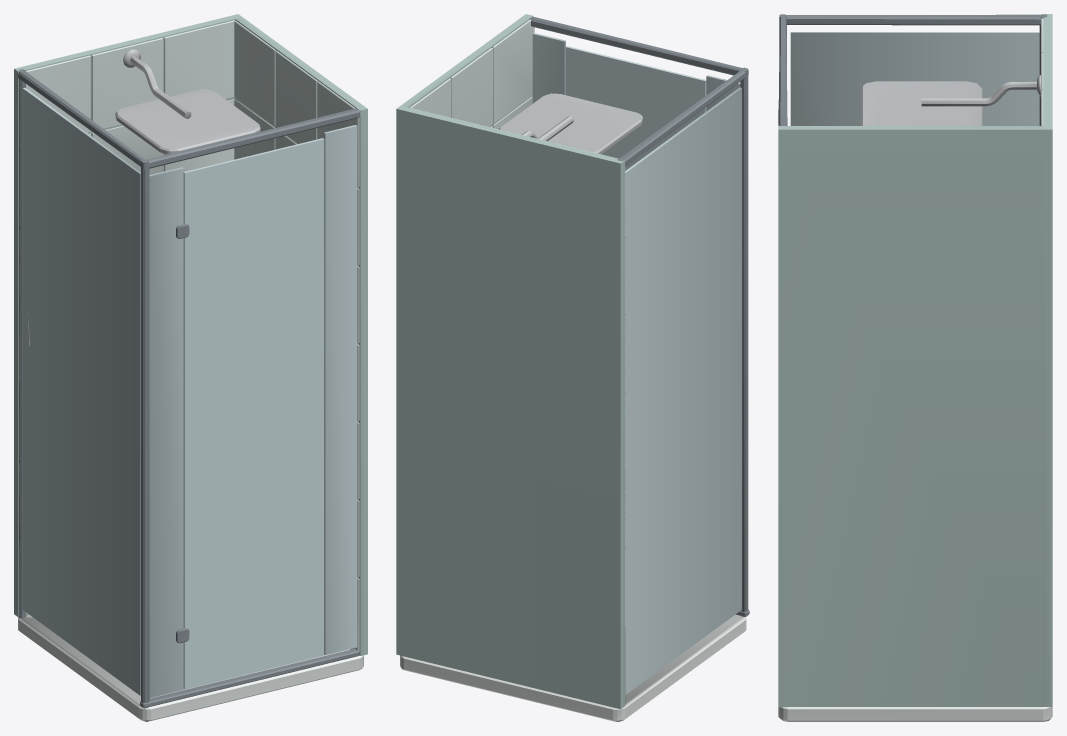
Rendered from contrastShower.glb.
3 views of the same model, side by side, from view 1: azimuth 30°, elevation 25°; view 2: azimuth 150°, elevation 25°; view 3: azimuth 270°, elevation 25° (orthographic). The views are drawn at different scales.
Parts seen in each view (by area): view 1: body, door; view 2: body, door; view 3: body.
Boxes of the visible parts, left/top/right/bottom form: body: left=14, top=14, right=367, bottom=721; door: left=183, top=138, right=324, bottom=689; body: left=396, top=14, right=749, bottom=721; door: left=565, top=46, right=706, bottom=170; body: left=778, top=14, right=1052, bottom=721.
Size of the model in its own units: 0.9 by 2.15 by 0.9.
